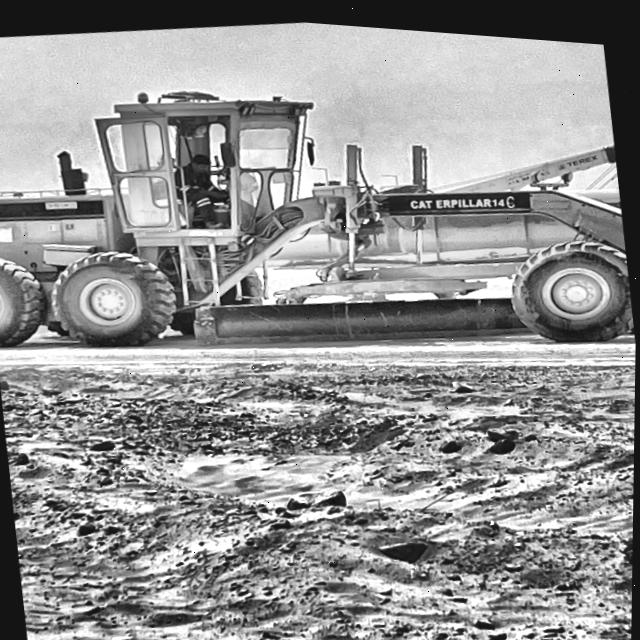buldozerpayloadergrader: (0, 14, 637, 390)
